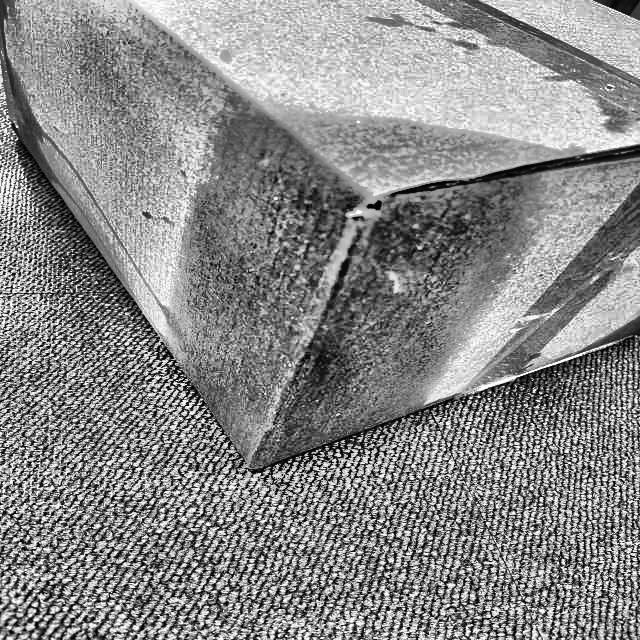box: (0, 0, 640, 480)
wet: (170, 87, 564, 462)
